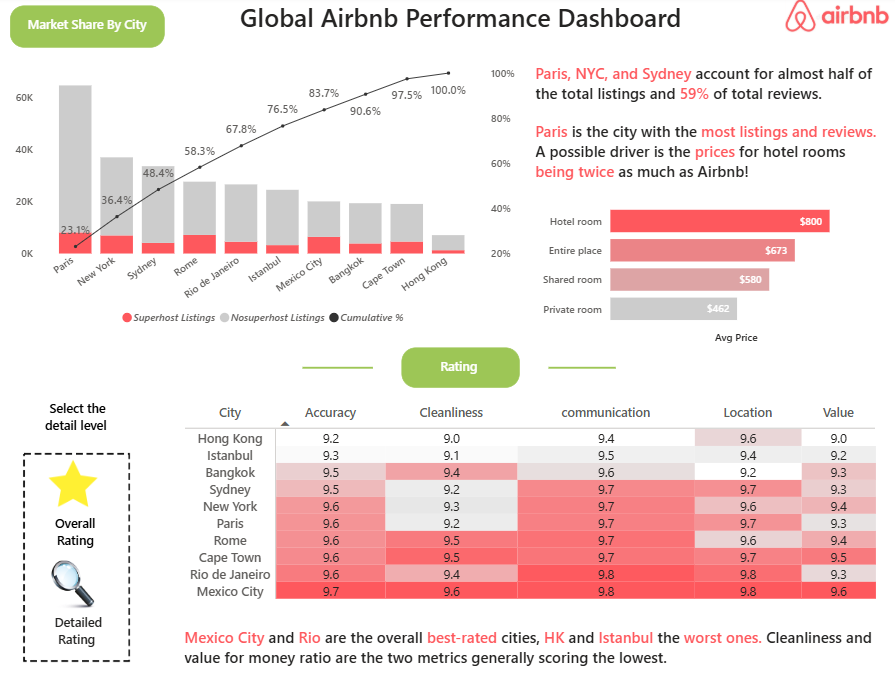

Layout of this report page (visuals, bound fields, positions):
{"tool":"powerbi","page":{"name":"Ratings","canvas":[960,720],"ordinal":1},"visuals":[{"type":"textbox","box":[225.9,0,536,66.8],"z":0},{"type":"image","box":[52.5,489.9,60.4,55.7],"z":0,"group":"g2"},{"type":"image","box":[55.7,599.7,52.5,52.5],"z":0,"group":"g1"},{"type":"image","box":[838.3,0,109.8,44.5],"z":1000},{"type":"textbox","box":[39.8,545.6,90.7,54.1],"z":1000,"group":"g2"},{"type":"textbox","box":[39.8,650.6,97,46.1],"z":1000,"group":"g1"},{"type":"lineStackedColumnComboChart","fields":{"Category":["Listings.city"],"Y":["Listings.Superhost Listings","Listings.Nosuperhost Listings"],"Y2":["Listings.Cumulative %"]},"box":[15.9,66.8,540.8,292.7],"z":2000},{"type":"barChart","fields":{"Y":["Listings.Avg Price"],"Category":["Listings.room_type"]},"box":[574.2,202,349.9,171.8],"z":3000},{"type":"textbox","box":[431.1,373.8,125.7,42.9],"z":5000},{"type":"shape","box":[326.1,373.8,74.8,42.9],"z":6000},{"type":"shape","box":[586.9,373.8,71.6,42.9],"z":7000},{"type":"textbox","box":[15.9,11.1,163.8,44.5],"z":8000},{"type":"image","box":[0,472.4,173.4,248.1],"z":9000},{"type":"pivotTable","fields":{"Rows":["Listings.city"],"Values":["Listings.Accuracy","Listings.Cleanliness","Listings.communication","Listings.Location","Listings.Value"]},"box":[179.7,423.1,744.4,248.1],"z":10000},{"type":"textbox","box":[44.5,423.1,85.9,49.3],"z":11000},{"type":"group","id":"g1","title":"Group 1","box":[39.8,599.7,97,97],"z":12000},{"type":"group","id":"g2","title":"Group 2","box":[39.8,489.9,90.7,109.8],"z":13000},{"type":"textbox","box":[567.8,66.8,378.6,146.3],"z":14000},{"type":"textbox","box":[195.6,664.9,739.6,55.7],"z":15000}]}

Visuals, with their boxes in screenshot pixels (x1, y1, x2, y2), scaled from the page's 960x720 canvas onto the 895x673 screenshot:
textbox: region(211, 0, 710, 62)
image: region(49, 458, 105, 510)
image: region(52, 561, 101, 610)
image: region(782, 0, 884, 42)
textbox: region(37, 510, 122, 561)
textbox: region(37, 608, 128, 651)
lineStackedColumnComboChart - Listings.city x Listings.Superhost Listings: region(15, 62, 519, 336)
barChart - Listings.Avg Price x Listings.room_type: region(535, 189, 862, 349)
textbox: region(402, 349, 519, 389)
shape: region(304, 349, 374, 389)
shape: region(547, 349, 614, 389)
textbox: region(15, 10, 168, 52)
image: region(0, 442, 162, 672)
pivotTable - Listings.city x Listings.Accuracy: region(168, 395, 862, 627)
textbox: region(41, 395, 122, 442)
"Group 1" group: region(37, 561, 128, 651)
"Group 2" group: region(37, 458, 122, 561)
textbox: region(529, 62, 882, 199)
textbox: region(182, 621, 872, 672)
